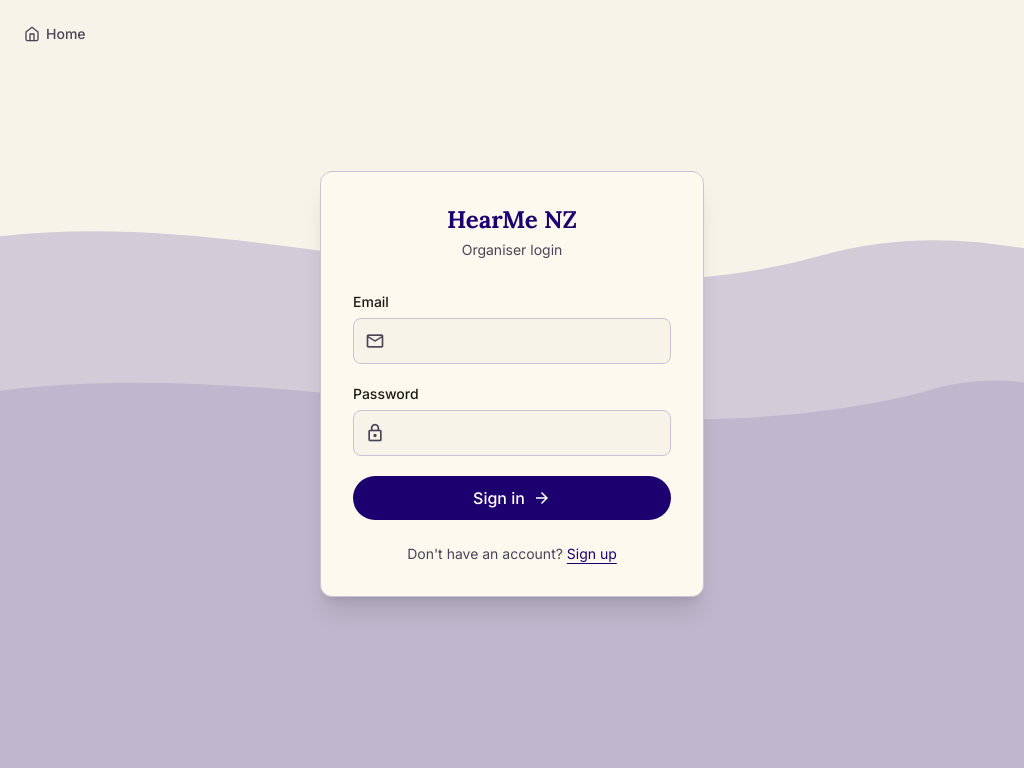
Test case: LoginPage › displays error message when signIn throws
In the field labelled "Email": (512, 341) left=353, top=318, right=671, bottom=364, type "bad@example.com"
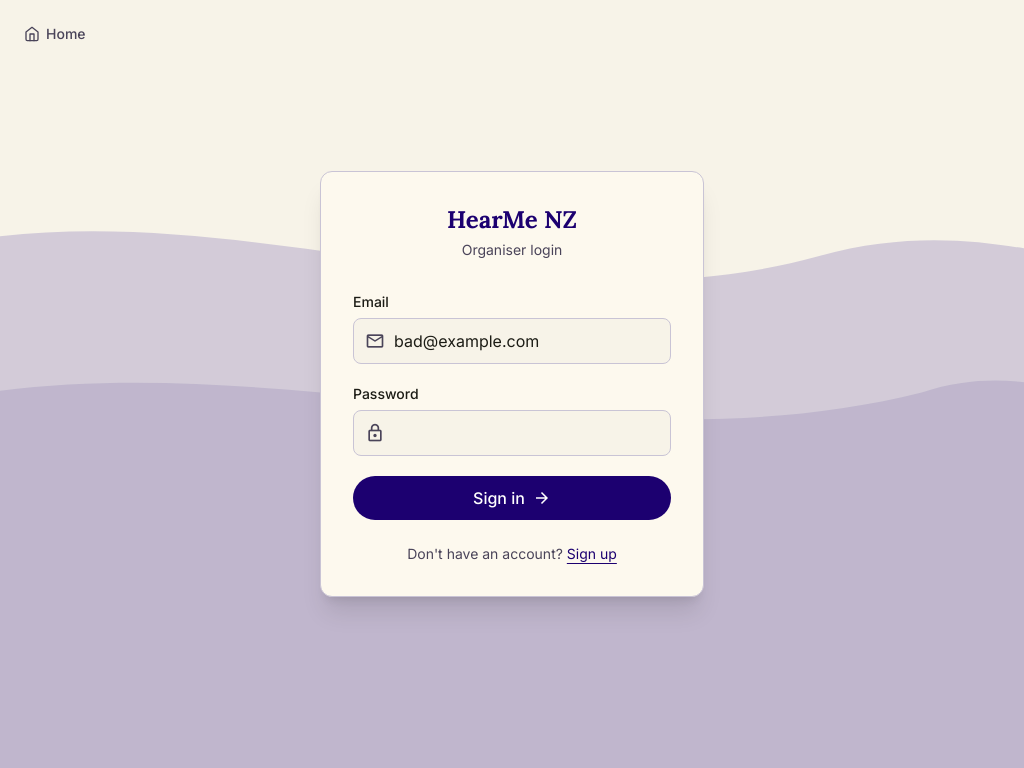
In the password field labelled "Password": (512, 433) left=353, top=410, right=671, bottom=456, type "wrong"
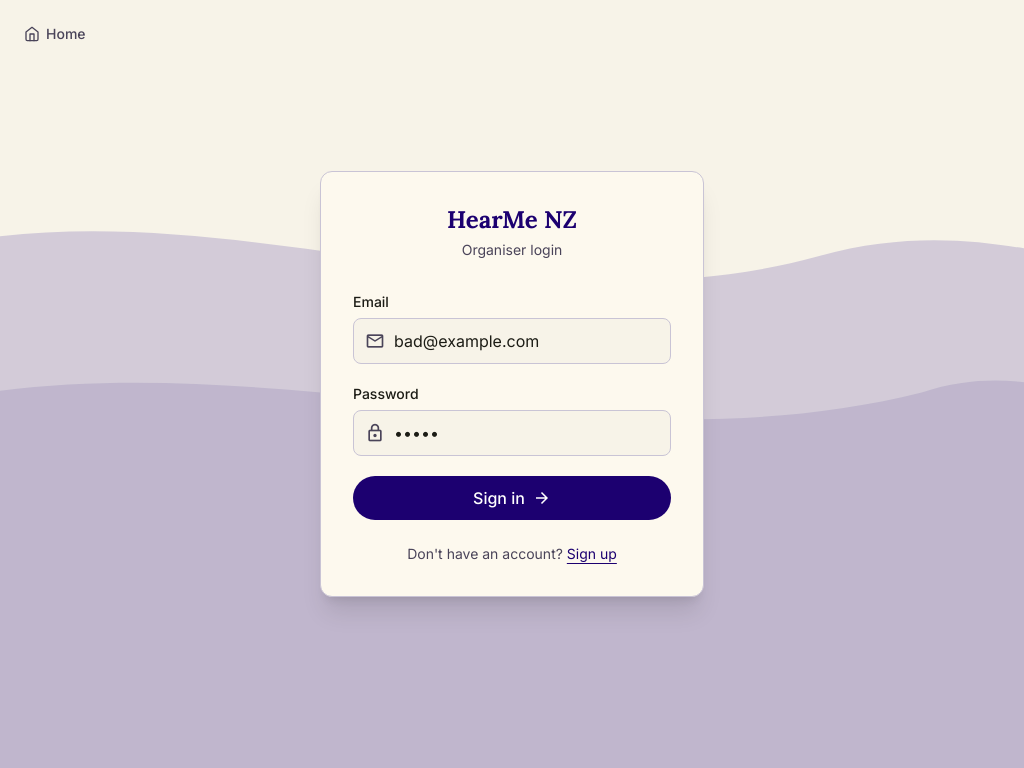
Click the button "Sign in": click(512, 498) left=353, top=476, right=671, bottom=520
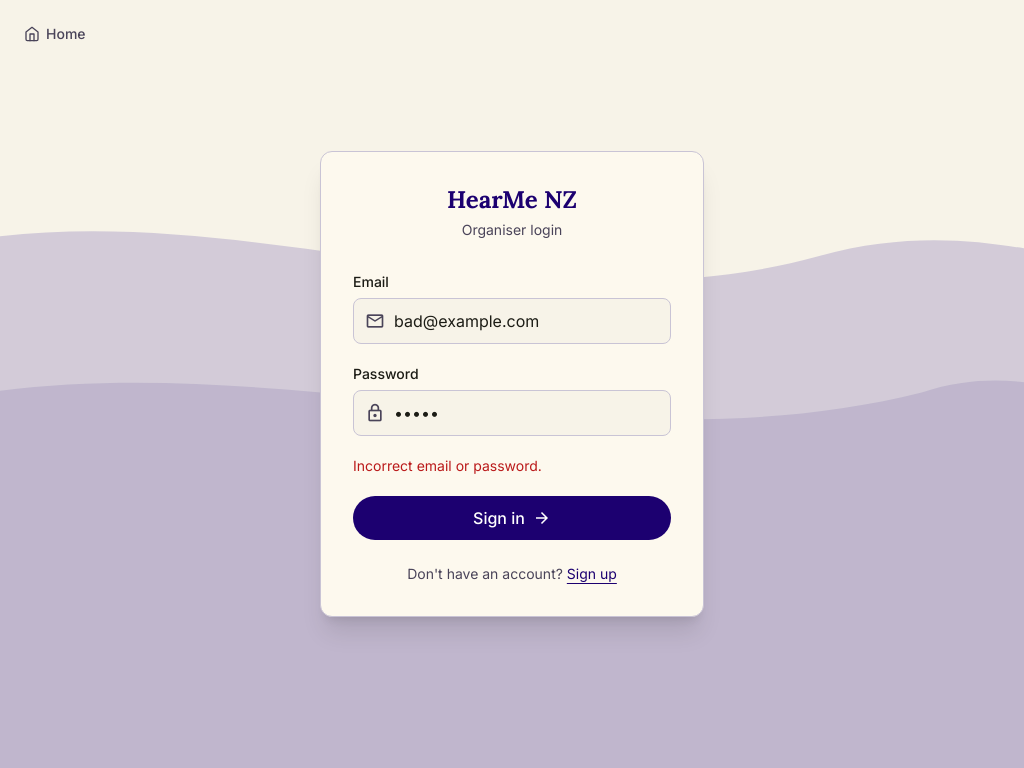
Expected: the text "Incorrect email or password." is shown, left=353, top=457, right=542, bottom=474
